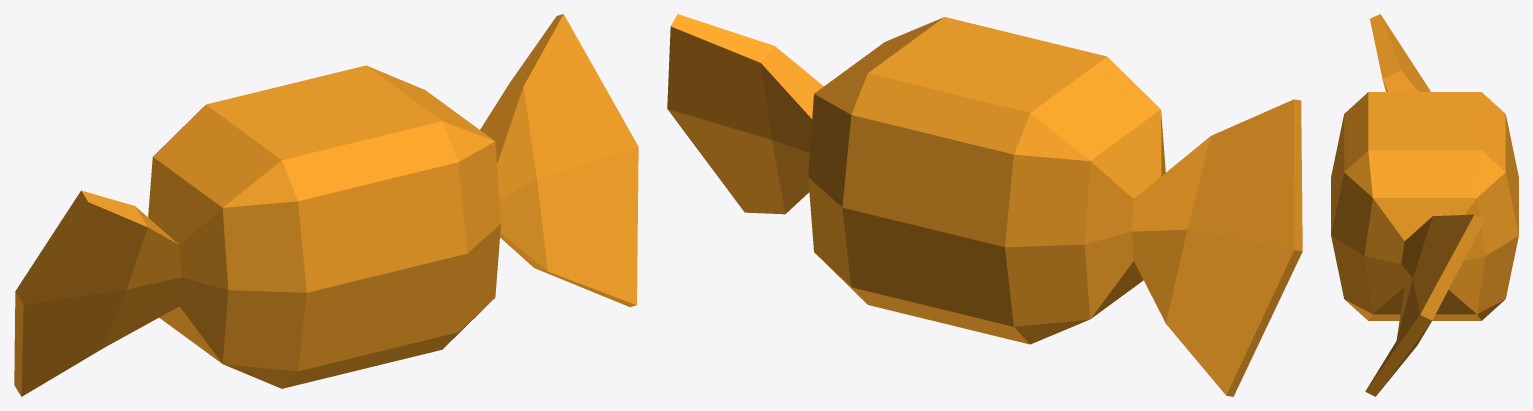
File: SM_Icon_Candy_01.fbx
3 views of the same model, side by side, from view 1: azimuth 30°, elevation 25°; view 2: azimuth 150°, elevation 25°; view 3: azimuth 270°, elevation 25° (orthographic). The views are drawn at different scales.
Parts seen in each view (by area): view 1: SM_Icon_Candy_01; view 2: SM_Icon_Candy_01; view 3: SM_Icon_Candy_01.
Boxes of the visible parts, x1,y1,x2,y2 form: SM_Icon_Candy_01: (14,14,638,396); SM_Icon_Candy_01: (667,14,1302,396); SM_Icon_Candy_01: (1331,14,1518,396).
Size of the model in its own units: 79.51 by 30.81 by 28.13.
